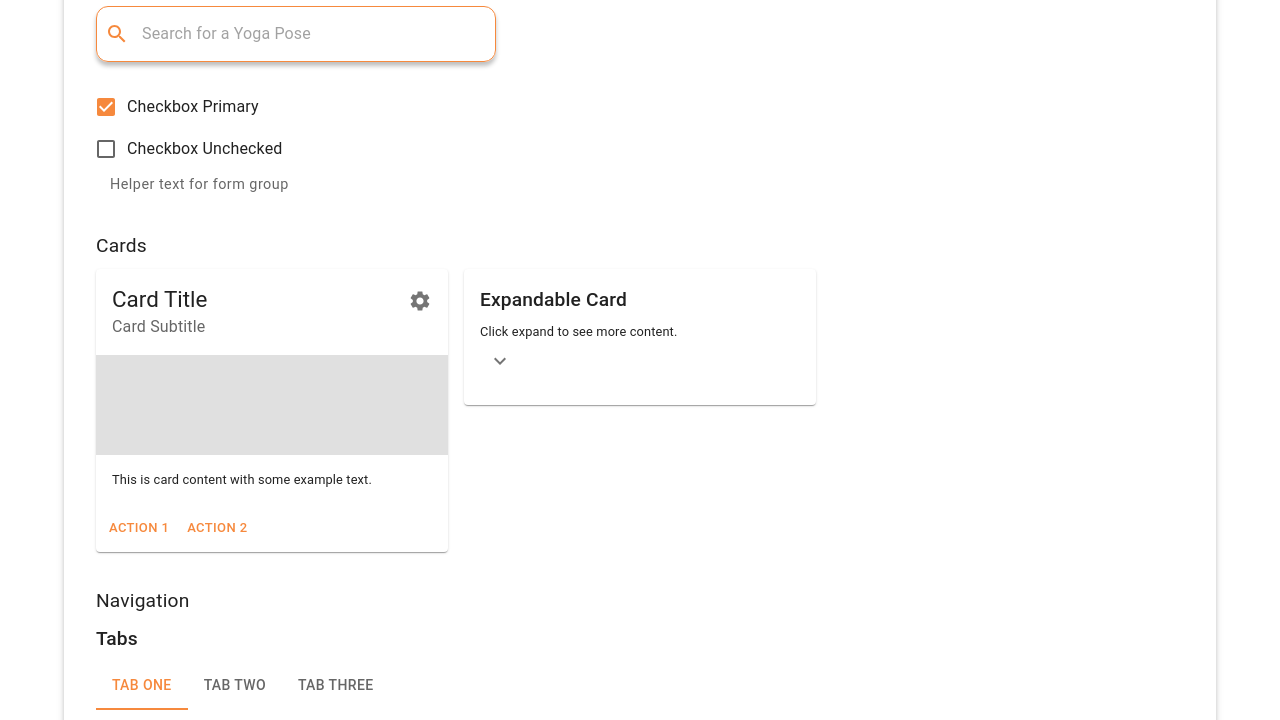
StyleGuide Component › MUI Components Section › Card Components › displays expandable card with collapse functionality
(page scrolled)
Expected: the heading "Expandable Card" is shown, top-left (480, 288), bottom-right (627, 311)
Expected: the text "Click expand to see more content." is shown, top-left (480, 324), bottom-right (677, 338)
# Test expand functionality
Click the button named "show more" at (500, 361), box top-left (480, 341), bottom-right (520, 381)
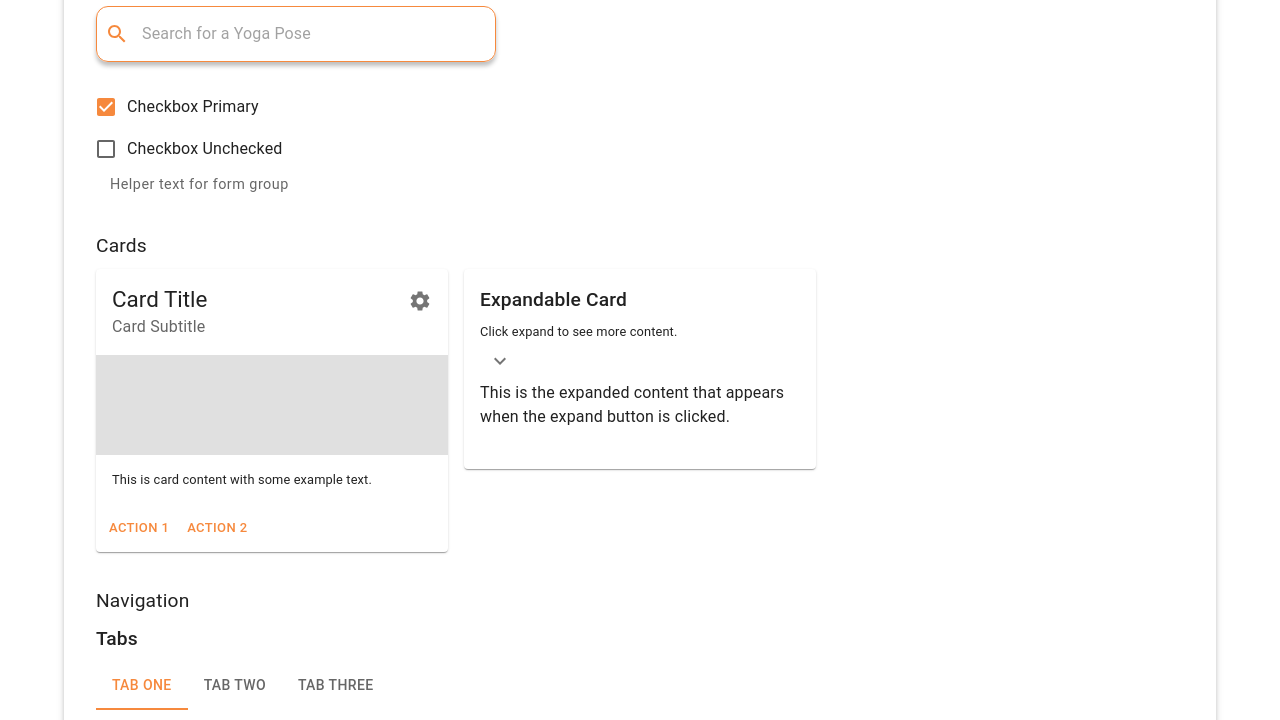
Now the text "This is the expanded content" is shown, box top-left (480, 383), bottom-right (784, 426)
